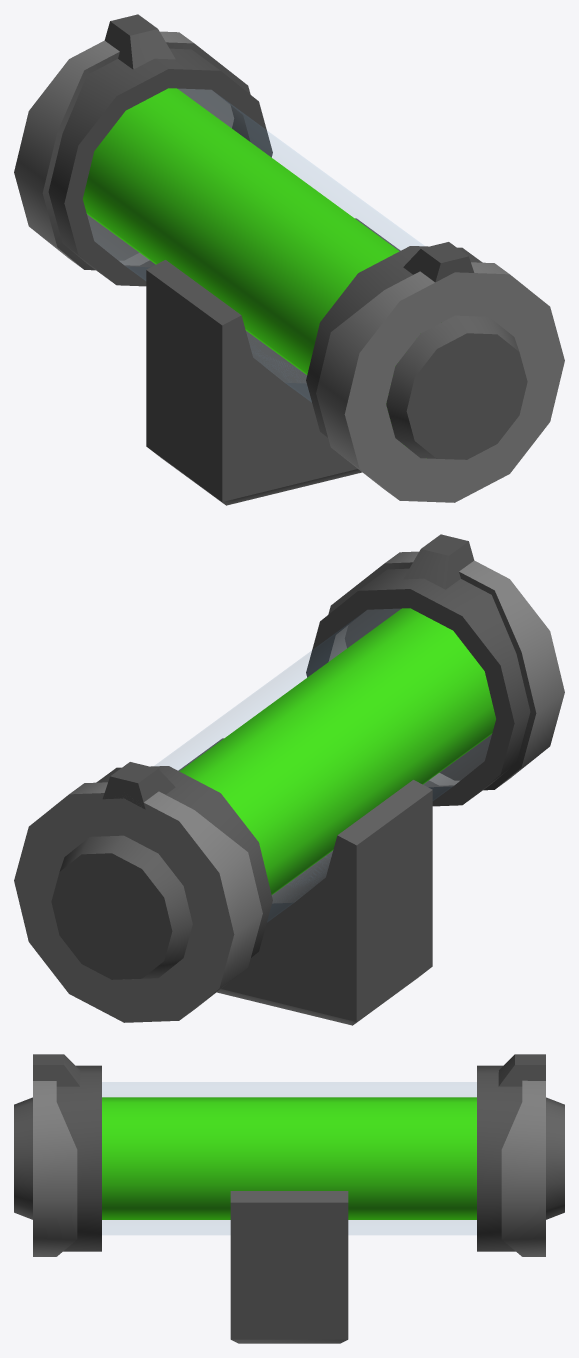
File: Liquid_Green_Pipe.fbx
3 views of the same model, one above another, from view 1: azimuth 30°, elevation 25°; view 2: azimuth 150°, elevation 25°; view 3: azimuth 270°, elevation 25° (orthographic). The views are drawn at different scales.
Parts seen in each view (by area): view 1: Liquid_Green_Pipe; view 2: Liquid_Green_Pipe; view 3: Liquid_Green_Pipe.
Boxes of the visible parts, x1,y1,x2,y2 form: Liquid_Green_Pipe: (14,14,564,505); Liquid_Green_Pipe: (14,534,564,1025); Liquid_Green_Pipe: (14,1054,564,1343).
Bounding box in the file's own units: 76.91 × 107 × 215.
